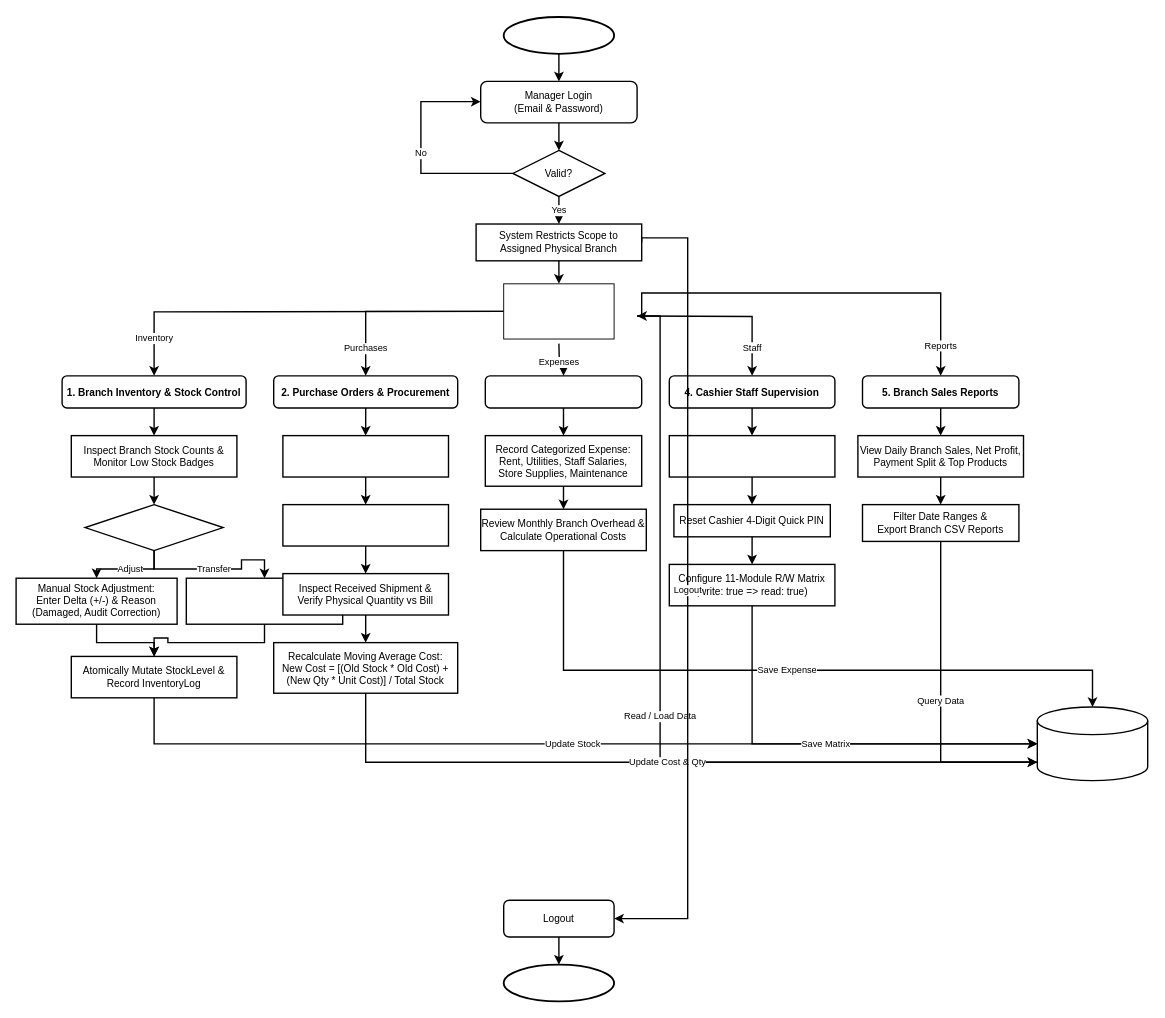
Image size: 1165x1018. Some labels were removed from this diagram. The shapes that lost their labels are listed below. From the top down, each one's box as (x1, y1, x2, y2) in pixels, then its label:
(502, 16, 615, 54): Start
(503, 283, 614, 339): Select Manager Operational Module
(484, 375, 642, 408): 3. Branch Expense Ledger
(282, 435, 449, 477): Draft PO: Select Supplier, Add Items, Unit Cost & Qty
(668, 435, 835, 477): View Cashiers Assigned to Branch & Audit Cashier Shift Vouchers
(84, 504, 223, 551): Operation Type?
(282, 504, 449, 546): Record Supplier Tax Voucher & Set Expected Delivery Date
(185, 577, 343, 624): Branch Stock Transfer: Select Target Branch & Qty (Deduct Source, Add Target)
(1036, 706, 1148, 781): Database
(502, 963, 615, 1002): End
